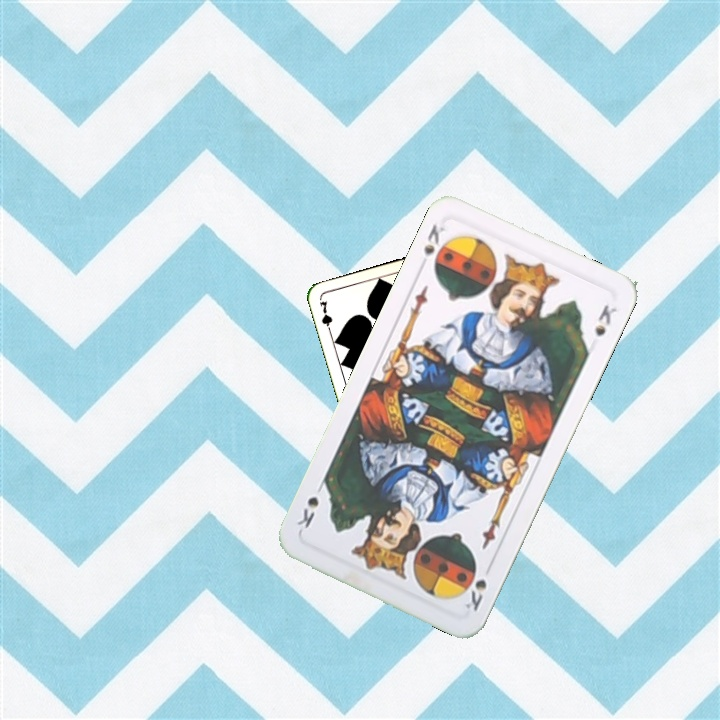G7: (316, 297, 335, 337)
SK: (460, 575, 490, 614), (419, 220, 449, 258)
